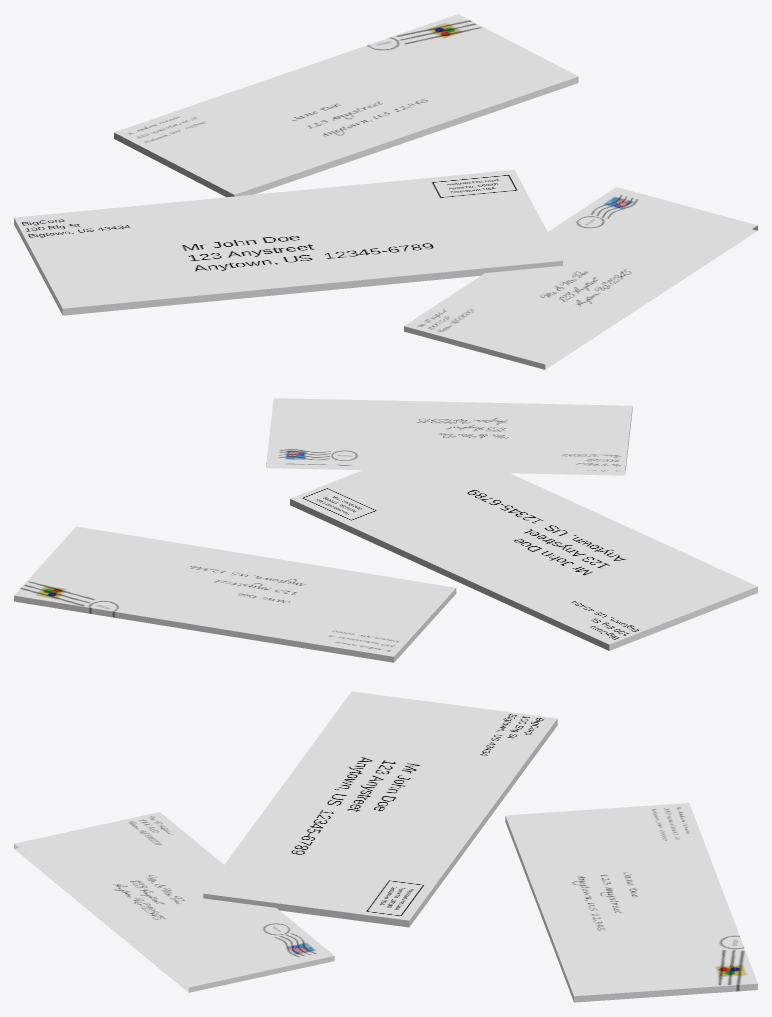
File: kitchen-letters.obj
3 renders of one model, top to bottom at view 1: azimuth 30°, elevation 25°; view 2: azimuth 150°, elevation 25°; view 3: azimuth 270°, elevation 25°, orthographic. The views are drawn at different scales.
Visible parts, largest first — view 1: Cube, Cube.019_Cube.023, Cube.018_Cube.022; view 2: Cube, Cube.019_Cube.023, Cube.018_Cube.022; view 3: Cube, Cube.019_Cube.023, Cube.018_Cube.022.
Boxes of the visible parts, x1=… form: Cube: x1=14, y1=169, x2=562, y2=315; Cube.019_Cube.023: x1=114, y1=14, x2=578, y2=197; Cube.018_Cube.022: x1=404, y1=187, x2=757, y2=369; Cube: x1=290, y1=440, x2=757, y2=650; Cube.019_Cube.023: x1=14, y1=526, x2=456, y2=662; Cube.018_Cube.022: x1=266, y1=398, x2=632, y2=475; Cube: x1=203, y1=691, x2=557, y2=927; Cube.019_Cube.023: x1=505, y1=803, x2=757, y2=1002; Cube.018_Cube.022: x1=14, y1=812, x2=334, y2=992.
Size of the model in its own units: 1.22 by 0.021 by 1.28.
Materials: 1 (1 with a texture image).
